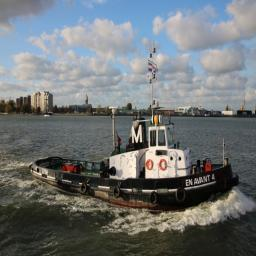tugboat: (28, 42, 242, 218)
